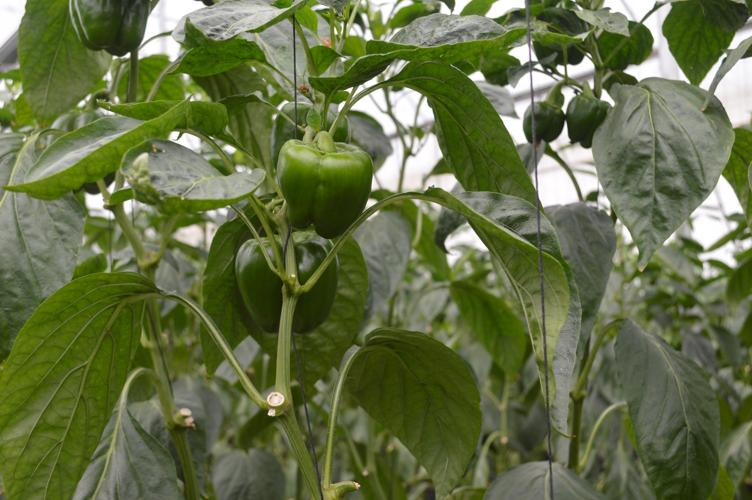BellPepper: (266, 127, 384, 235), (226, 234, 345, 337), (564, 87, 614, 153), (521, 93, 570, 150)
